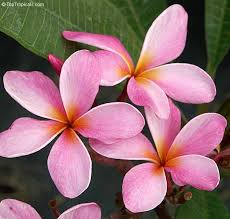frangipani: (1, 50, 145, 199)
